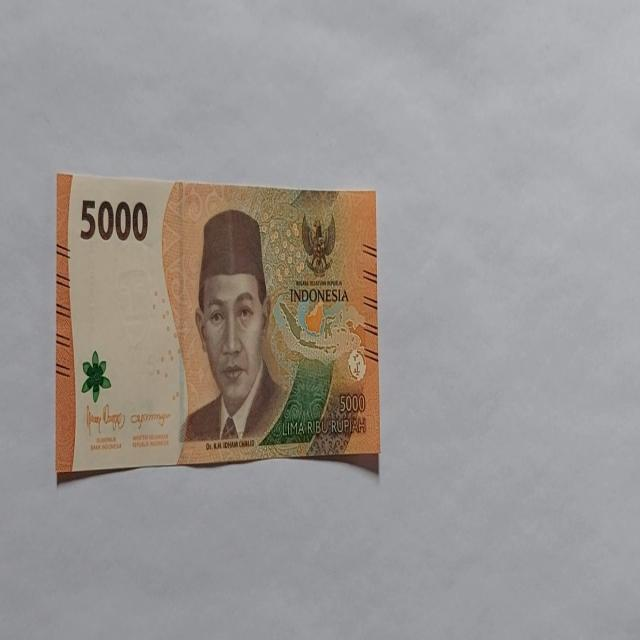lima ribu rupiah: (55, 171, 380, 481), (178, 207, 288, 447)
